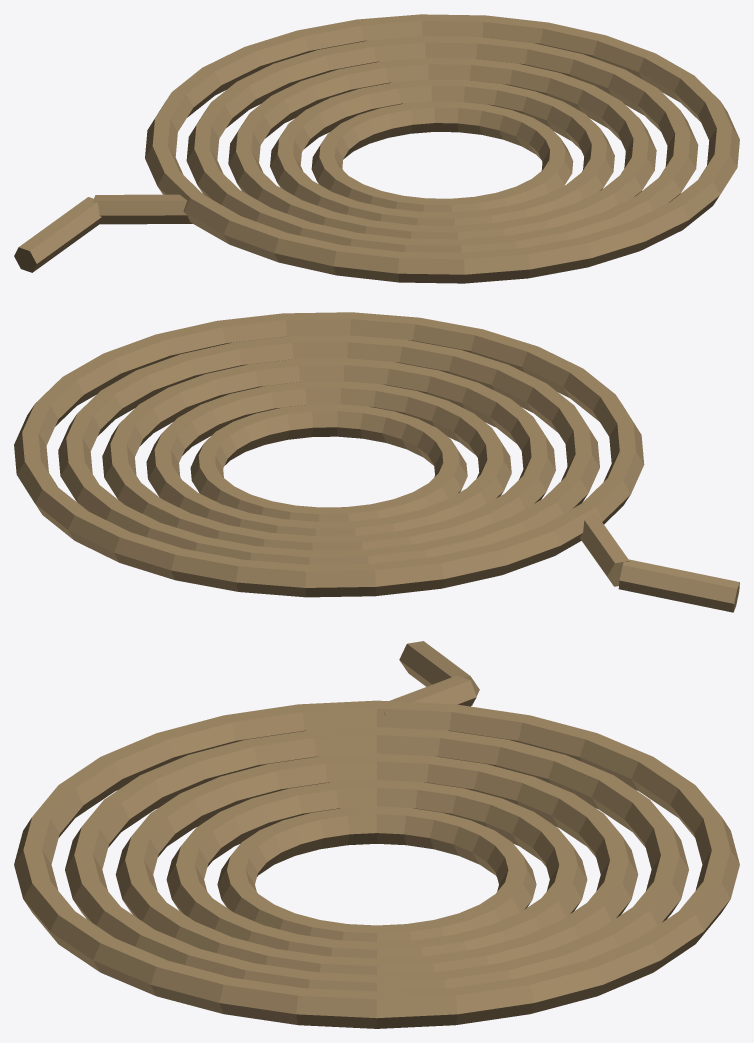
The model's file is SW_Rope_Coil.fbx.
The picture shows the model from 3 angles, top to bottom: view 1: azimuth 30°, elevation 25°; view 2: azimuth 150°, elevation 25°; view 3: azimuth 270°, elevation 25°; orthographic projection. The views are drawn at different scales.
Visible parts, largest first — view 1: SW_Rope_Coil; view 2: SW_Rope_Coil; view 3: SW_Rope_Coil.
Part boxes in pixels (<box>): SW_Rope_Coil: <box>14,14,739,283</box>; SW_Rope_Coil: <box>14,312,739,612</box>; SW_Rope_Coil: <box>14,641,739,1028</box>.
Size of the model in its own units: 1.19 by 0.0835 by 0.928.
